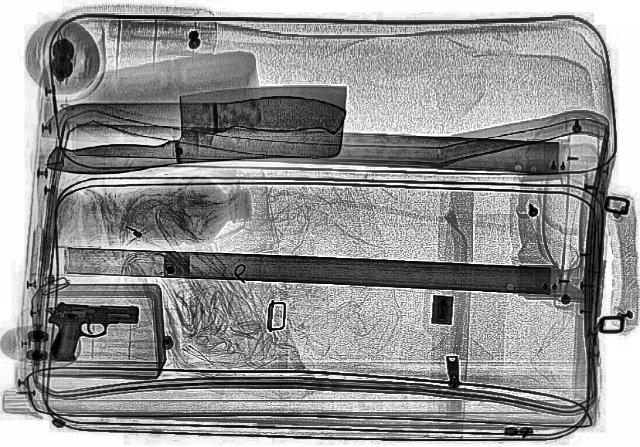Gun: (44, 302, 138, 362)
Knife: (38, 81, 354, 178), (34, 96, 346, 144)
